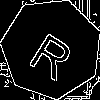R: (26, 23, 82, 82)
